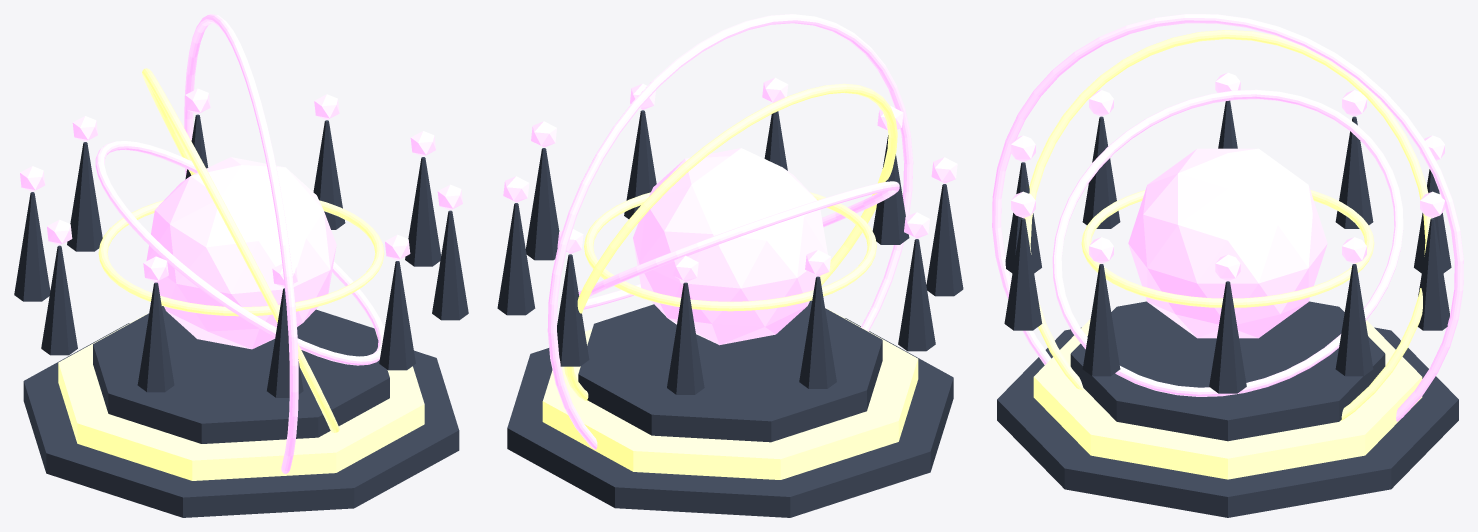
The model's file is gpu-blender-v26.glb.
The picture shows the model from 3 angles, left to right: view 1: azimuth 30°, elevation 25°; view 2: azimuth 150°, elevation 25°; view 3: azimuth 270°, elevation 25°; orthographic projection. The views are drawn at different scales.
Parts seen in each view (by area): view 1: Cylinder.002, SovereignCore_producthunt-connector, Cylinder, Cylinder.001, Torus.003, Torus.001, Torus, Torus.002, Cone.006, Cone.009, Cone.005, Cone.008 (+12 smaller); view 2: Cylinder.002, SovereignCore_producthunt-connector, Cylinder, Cylinder.001, Torus.003, Torus.002, Torus, Torus.001, Cone.005, Cone.001, Cone.006, Cone.003 (+12 smaller); view 3: SovereignCore_producthunt-connector, Cylinder.002, Cylinder, Cylinder.001, Torus.003, Torus.001, Torus.002, Torus, Cone.001, Cone.009, Cone, Cone.008 (+7 smaller).
Boxes of the visible parts, left/top/right/bottom form: Cylinder.002: left=93, top=306, right=389, bottom=443; SovereignCore_producthunt-connector: left=146, top=157, right=336, bottom=349; Cylinder: left=23, top=323, right=459, bottom=517; Cylinder.001: left=58, top=314, right=424, bottom=480; Torus.003: left=184, top=14, right=298, bottom=473; Torus.001: left=95, top=141, right=384, bottom=365; Torus: left=98, top=200, right=384, bottom=316; Torus.002: left=142, top=68, right=339, bottom=432; Cone.006: left=137, top=282, right=174, bottom=392; Cone.009: left=432, top=210, right=468, bottom=320; Cone.005: left=41, top=245, right=77, bottom=355; Cone.008: left=379, top=261, right=415, bottom=370; Cylinder.002: left=578, top=300, right=882, bottom=442; SovereignCore_producthunt-connector: left=633, top=148, right=827, bottom=345; Cylinder: left=507, top=318, right=953, bottom=517; Cylinder.001: left=542, top=308, right=918, bottom=479; Torus.003: left=547, top=14, right=913, bottom=449; Torus.002: left=564, top=83, right=897, bottom=400; Torus: left=584, top=192, right=876, bottom=311; Torus.001: left=578, top=181, right=899, bottom=309; Cone.005: left=898, top=239, right=935, bottom=351; Cone.001: left=497, top=203, right=535, bottom=315; Cone.006: left=926, top=184, right=963, bottom=296; Cone.003: left=667, top=282, right=704, bottom=394; SovereignCore_producthunt-connector: left=1128, top=148, right=1327, bottom=338; Cylinder.002: left=1070, top=301, right=1385, bottom=441; Cylinder: left=997, top=327, right=1458, bottom=517; Cylinder.001: left=1033, top=319, right=1422, bottom=479; Torus.003: left=992, top=14, right=1463, bottom=421; Torus.001: left=1052, top=89, right=1403, bottom=396; Torus.002: left=1024, top=30, right=1431, bottom=420; Torus: left=1081, top=190, right=1374, bottom=307; Cone.001: left=1335, top=264, right=1373, bottom=376; Cone.009: left=1082, top=264, right=1120, bottom=376; Cone: left=1209, top=281, right=1246, bottom=393; Cone.008: left=1004, top=218, right=1042, bottom=330.
Size of the model in its own units: 4.41 by 4.7 by 4.49.
